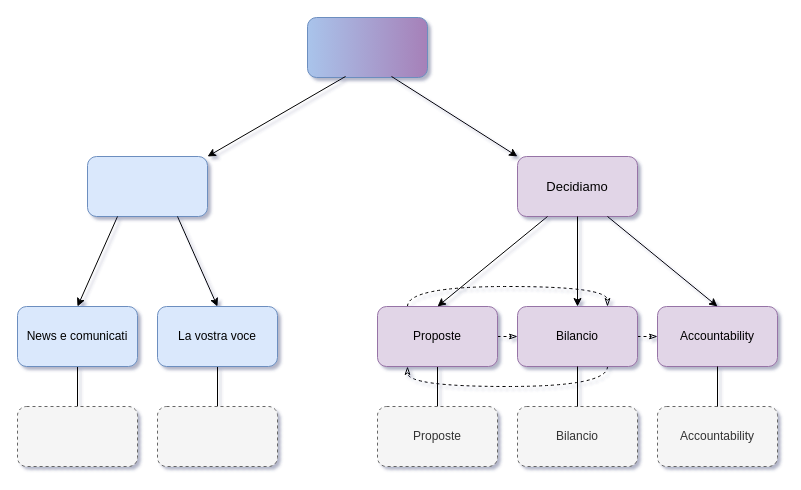
Some shapes in this 801 by 490 pixel diagram are drawn without their labels. The shapes that lost their labels are listed below. From the top down, each one's centre as x and y in pixels, then its label:
the point at 367,47: Green Together
the point at 147,186: Dialoghiamo
the point at 77,436: Blog
the point at 217,436: Dibattiti
